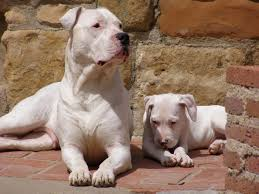dog: (2, 3, 141, 193), (145, 91, 227, 170)
